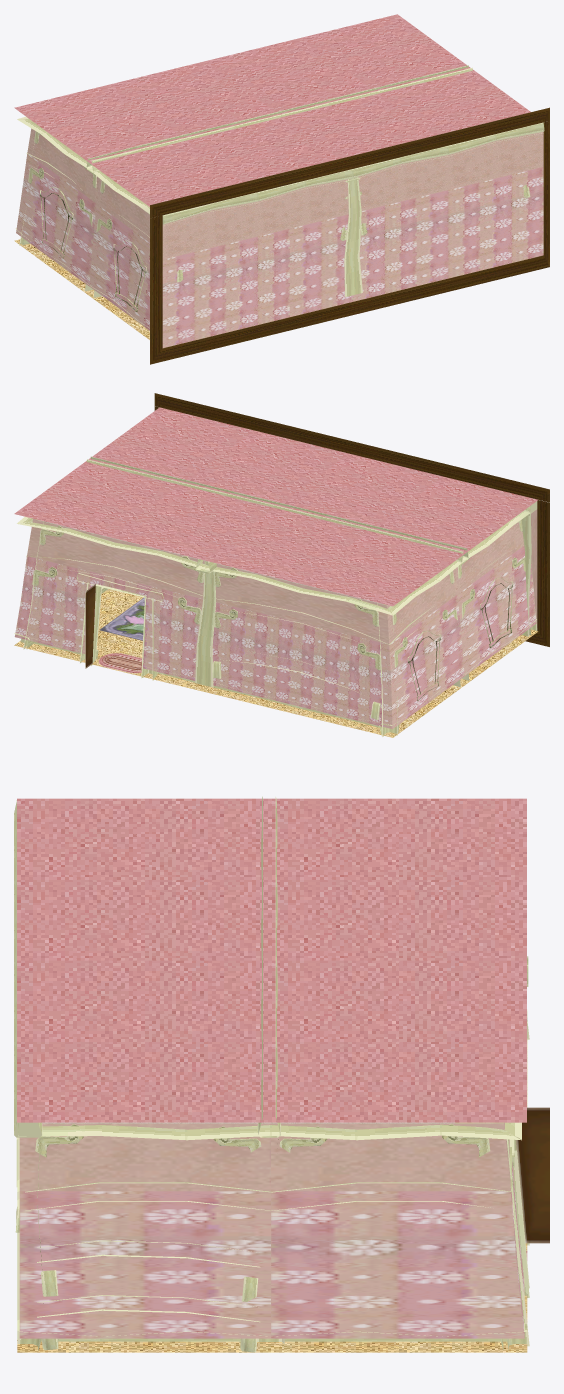
File: room_24.glb
3 views of the same model, one above another, from view 1: azimuth 30°, elevation 25°; view 2: azimuth 150°, elevation 25°; view 3: azimuth 270°, elevation 25° (orthographic). The views are drawn at different scales.
Visible parts, largest first — view 1: room_24; view 2: room_24; view 3: room_24.
Boxes of the visible parts, x1,y1,x2,y2 form: room_24: [14, 14, 549, 364]; room_24: [14, 393, 549, 737]; room_24: [14, 796, 549, 1352].
Size of the model in its own units: 1575 by 600 by 1056.
13 materials, 13 textured.
